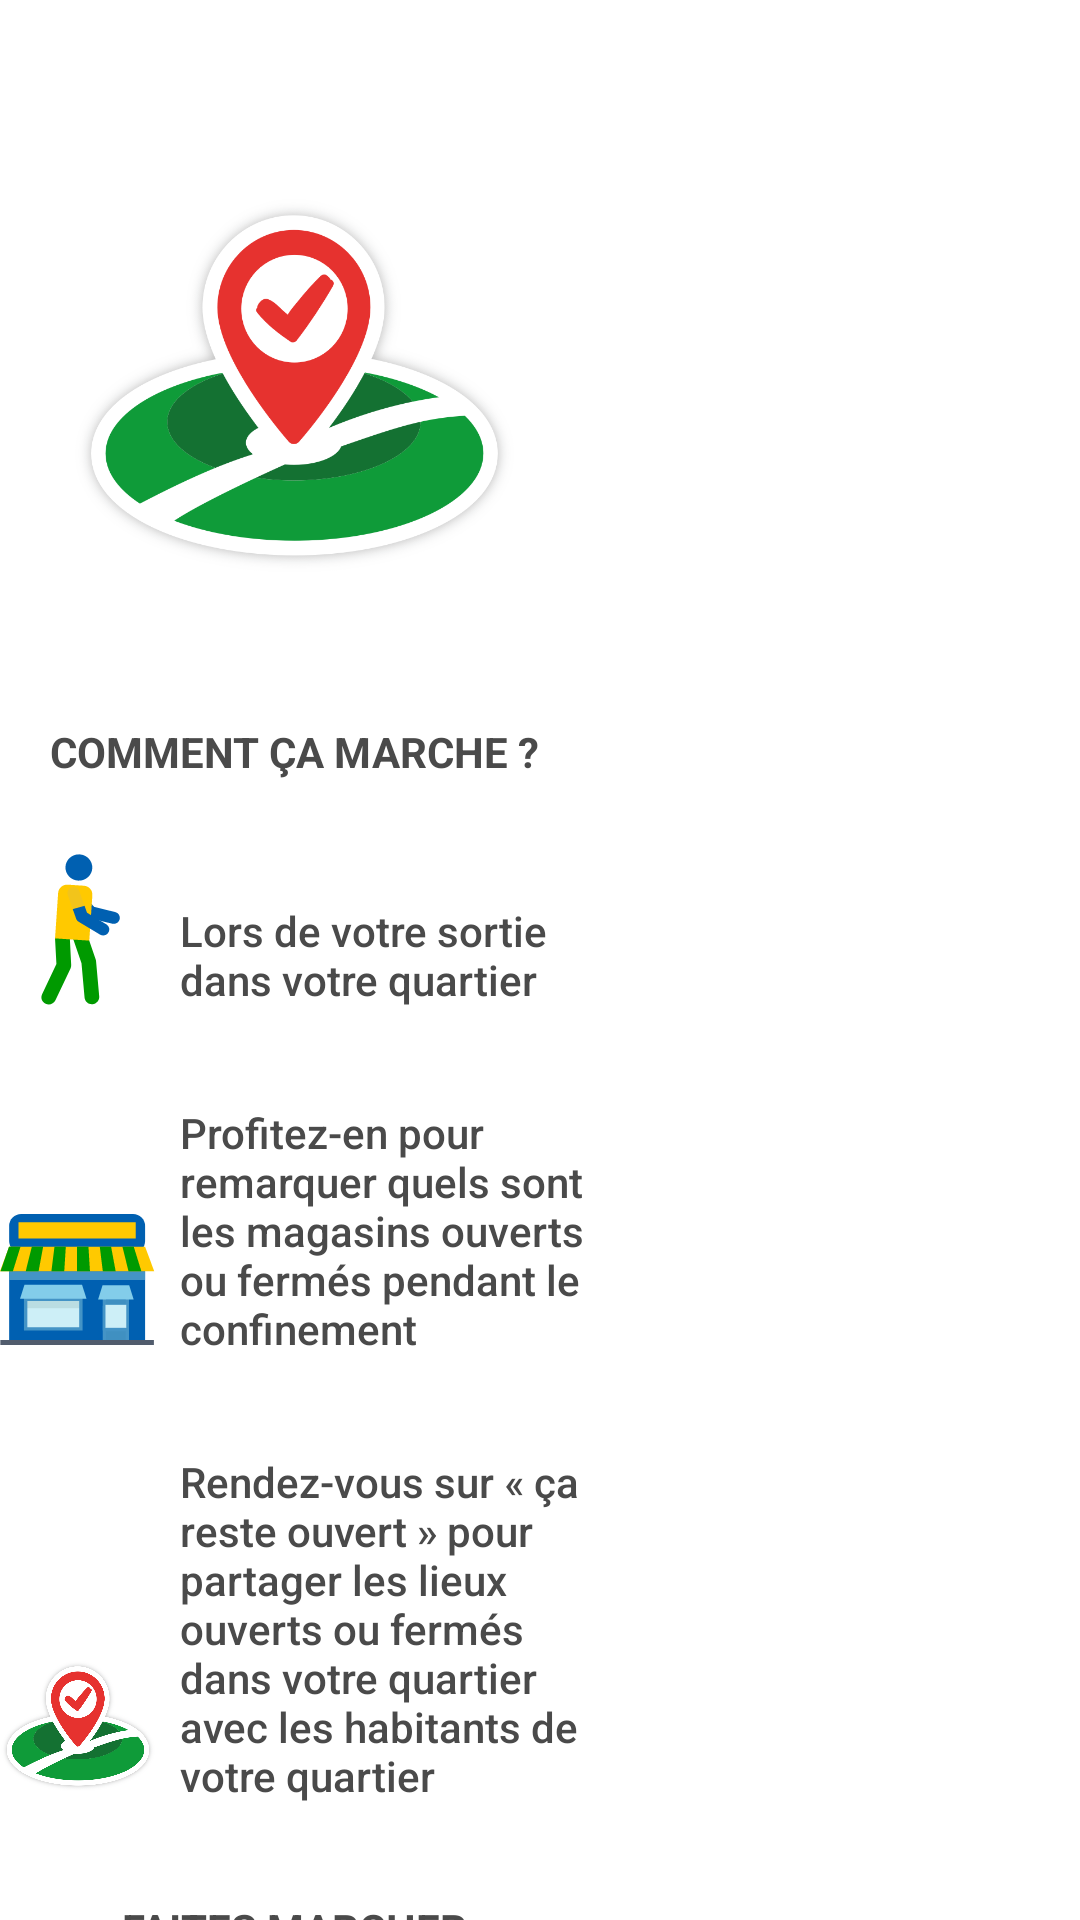

Screen size 1080px×1920px. Icon name, then its center in pixels as [x,y]:
market: [77,1279]
